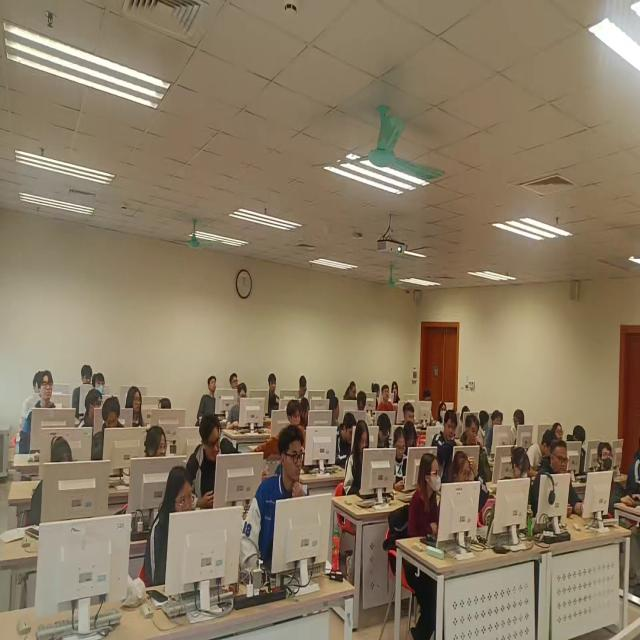raise_head: (242, 431, 318, 577), (149, 469, 205, 585), (22, 374, 65, 449), (416, 457, 447, 553), (134, 427, 174, 501), (597, 447, 629, 515), (198, 374, 227, 420), (124, 387, 148, 431), (487, 412, 511, 455), (438, 413, 461, 456), (461, 417, 486, 456), (265, 374, 283, 415), (377, 386, 397, 414), (403, 405, 421, 426), (93, 373, 109, 396), (552, 420, 567, 443), (82, 367, 94, 389), (229, 371, 241, 390)
using_computer: (37, 441, 89, 524), (193, 420, 242, 501), (352, 426, 385, 505), (453, 453, 491, 520), (97, 405, 133, 470), (513, 450, 540, 522), (228, 385, 263, 434), (550, 444, 576, 503), (570, 424, 591, 474), (533, 433, 556, 458), (288, 404, 308, 432), (296, 377, 319, 401), (356, 393, 372, 422), (343, 379, 359, 405)
using_phone: (392, 429, 410, 491), (335, 418, 357, 463)
